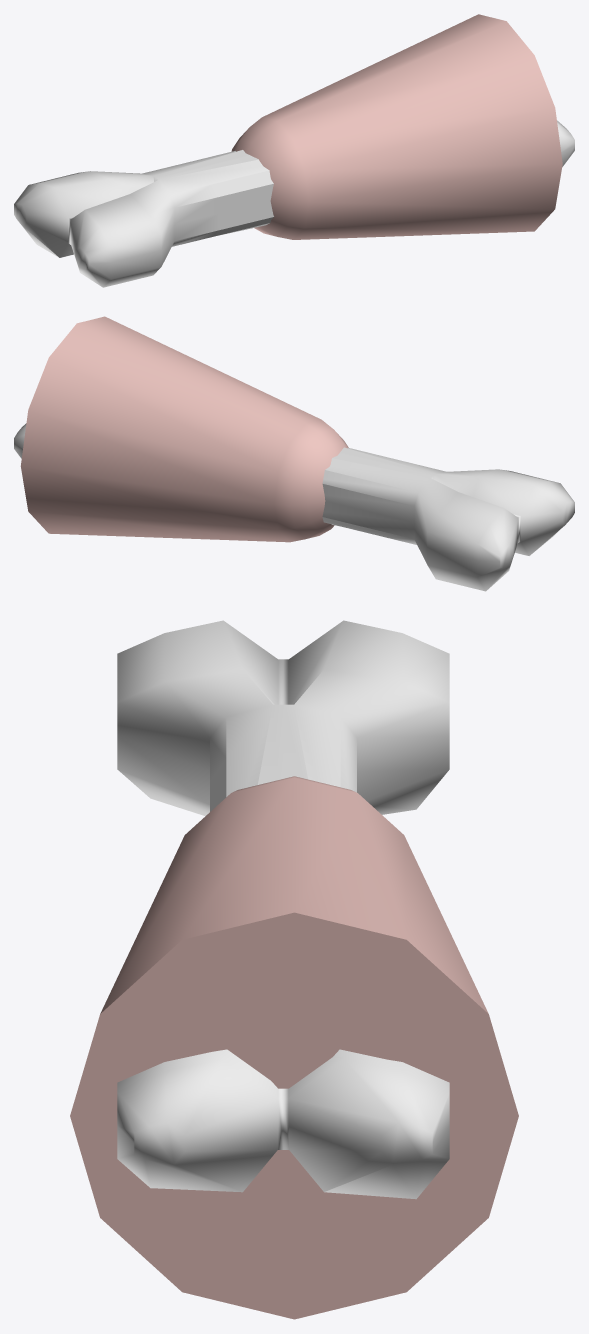
Rendered from SM_DrumstickCut.fbx.
3 views of the same model, one above another, from view 1: azimuth 30°, elevation 25°; view 2: azimuth 150°, elevation 25°; view 3: azimuth 270°, elevation 25° (orthographic). The views are drawn at different scales.
Parts seen in each view (by area): view 1: pSphere3, pCube2; view 2: pSphere3, pCube2; view 3: pSphere3, pCube2.
Boxes of the visible parts, left/top/right/bottom form: pSphere3: left=231, top=14, right=562, bottom=239; pCube2: left=14, top=120, right=574, bottom=287; pSphere3: left=20, top=316, right=348, bottom=542; pCube2: left=14, top=423, right=574, bottom=591; pSphere3: left=70, top=776, right=518, bottom=1319; pCube2: left=117, top=620, right=449, bottom=1199.
Size of the model in its own units: 103 by 41.07 by 41.07.
